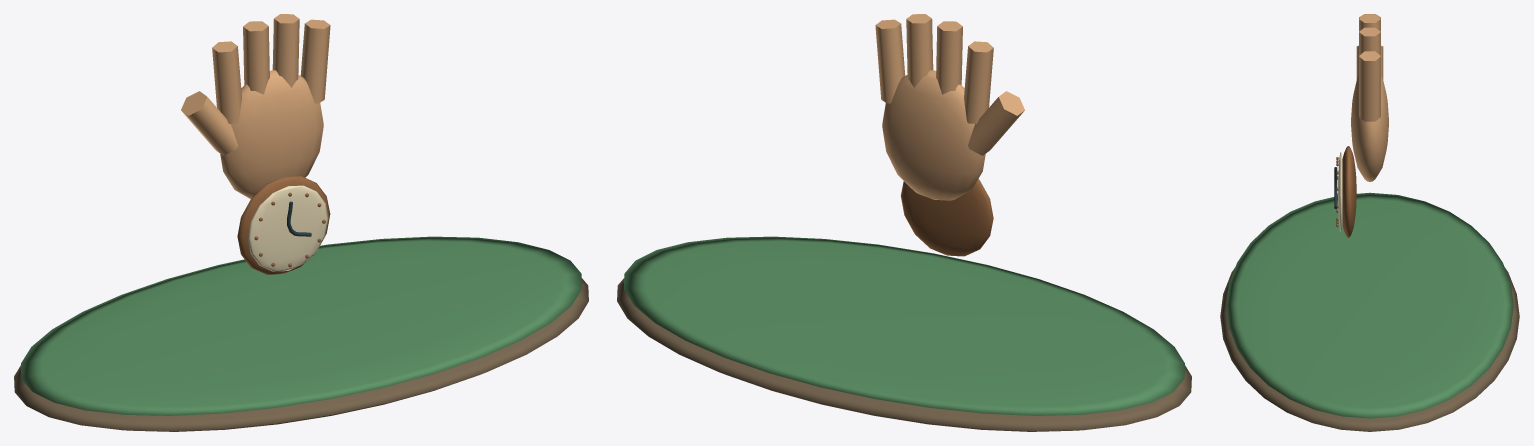
File: wrist-display.glb
The picture shows the model from 3 angles, left to right: view 1: azimuth 30°, elevation 25°; view 2: azimuth 150°, elevation 25°; view 3: azimuth 270°, elevation 25°; orthographic projection. The views are drawn at different scales.
Visible parts, largest first — view 1: wrist-display_surface_01, wrist-display_surface_02, wrist-display_surface_00, wrist-display_surface_04, wrist-display_surface_03; view 2: wrist-display_surface_01, wrist-display_surface_02, wrist-display_surface_00, wrist-display_surface_03; view 3: wrist-display_surface_01, wrist-display_surface_00, wrist-display_surface_02, wrist-display_surface_03, wrist-display_surface_04.
Boxes of the visible parts, x1,y1,x2,y2 form: wrist-display_surface_01: [21, 236, 581, 415]; wrist-display_surface_02: [181, 14, 330, 199]; wrist-display_surface_00: [14, 278, 588, 431]; wrist-display_surface_04: [247, 185, 328, 271]; wrist-display_surface_03: [237, 176, 330, 274]; wrist-display_surface_01: [624, 236, 1184, 415]; wrist-display_surface_02: [875, 14, 1024, 200]; wrist-display_surface_00: [617, 278, 1191, 431]; wrist-display_surface_03: [900, 179, 993, 256]; wrist-display_surface_01: [1226, 192, 1513, 418]; wrist-display_surface_00: [1220, 268, 1519, 431]; wrist-display_surface_02: [1351, 14, 1388, 181]; wrist-display_surface_03: [1336, 146, 1356, 237]; wrist-display_surface_04: [1338, 152, 1342, 231].
Size of the model in its own units: 4.56 by 2.7 by 2.5.
